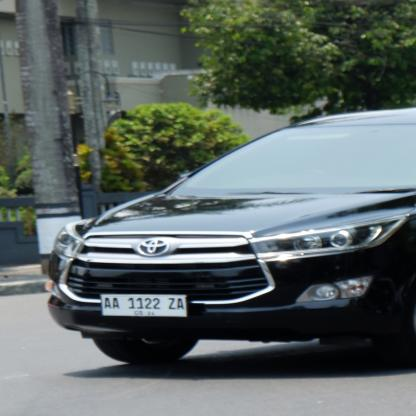Plat-Nomor: (98, 292, 190, 320)
